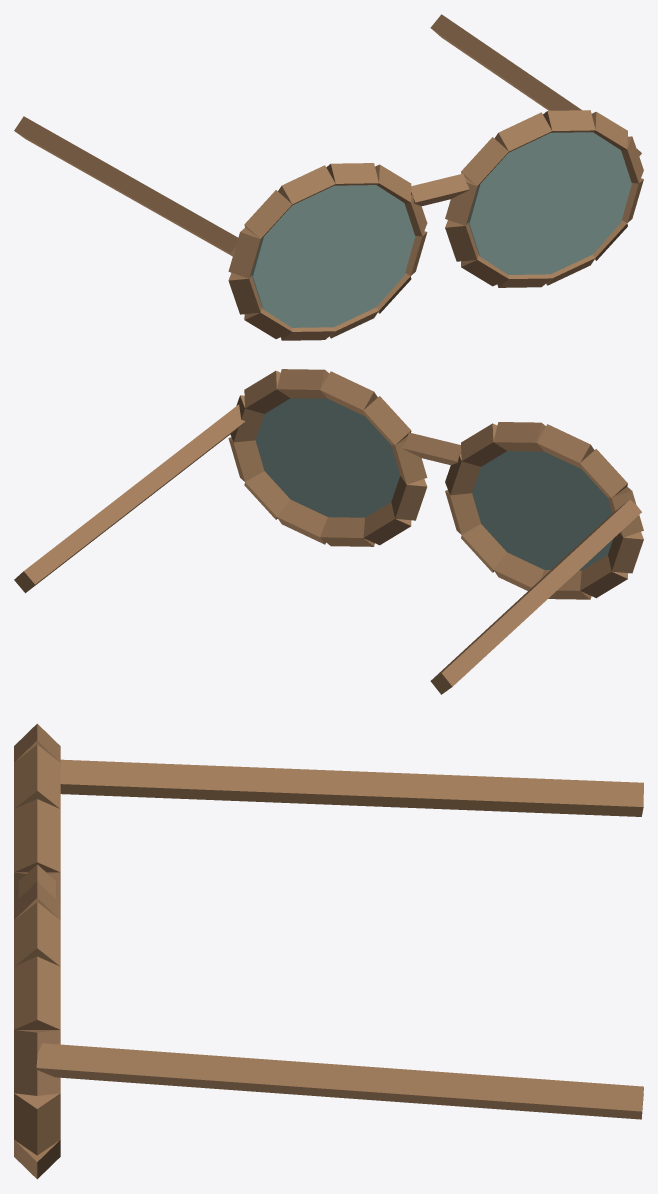
File: HJ_Gafas.fbx
The picture shows the model from 3 angles, top to bottom: view 1: azimuth 30°, elevation 25°; view 2: azimuth 150°, elevation 25°; view 3: azimuth 270°, elevation 25°; orthographic projection. The views are drawn at different scales.
Visible parts, largest first — view 1: HJ_Gafas; view 2: HJ_Gafas; view 3: HJ_Gafas.
Part boxes in pixels (x1=…): HJ_Gafas: x1=14, y1=14, x2=643, y2=340; HJ_Gafas: x1=14, y1=369, x2=643, y2=694; HJ_Gafas: x1=14, y1=723, x2=643, y2=1179.
Size of the model in its own units: 0.162 by 0.0618 by 0.1352.
